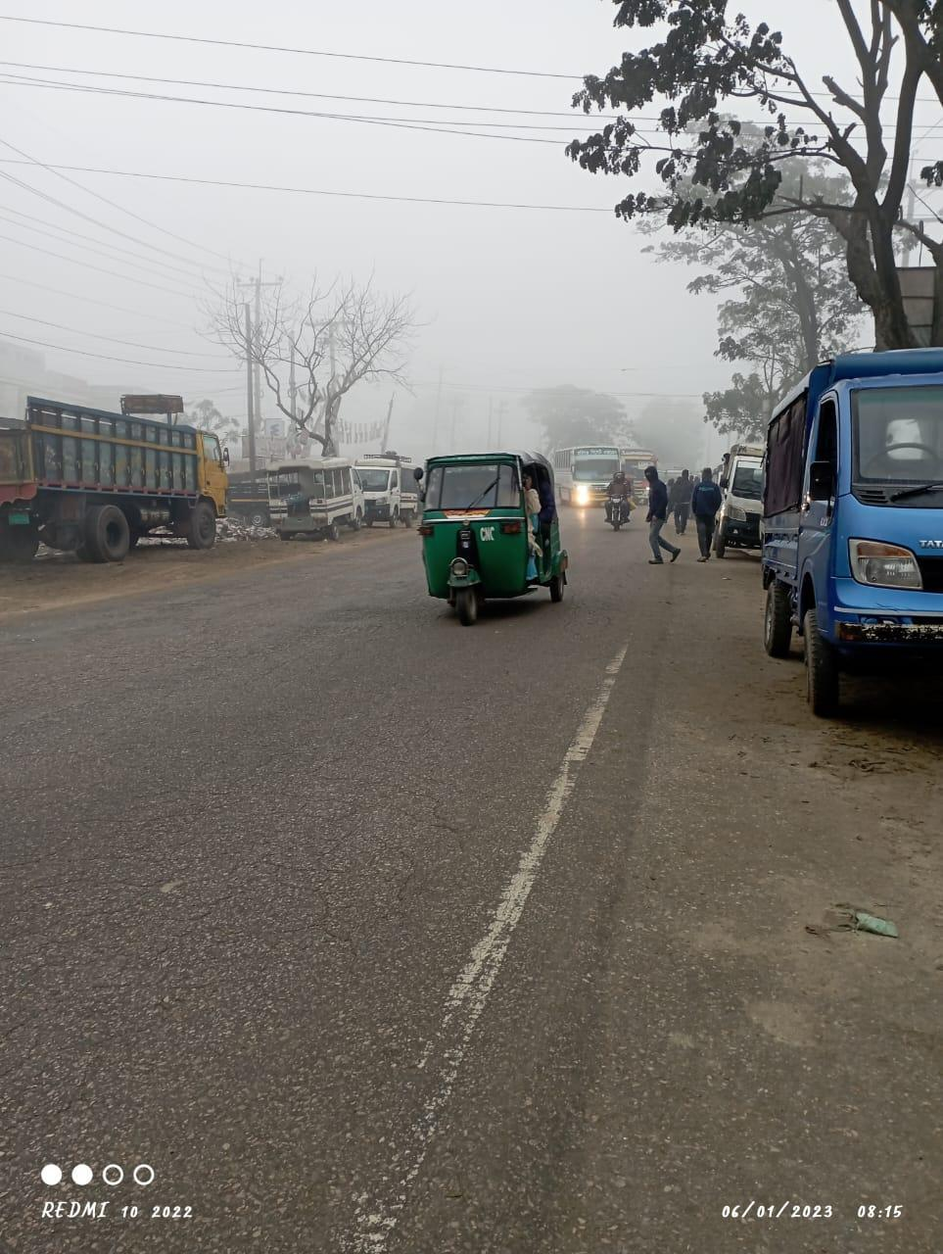Bus: (555, 441, 626, 512)
Car: (760, 346, 914, 703), (267, 459, 370, 538)
Truck: (4, 381, 243, 560)
